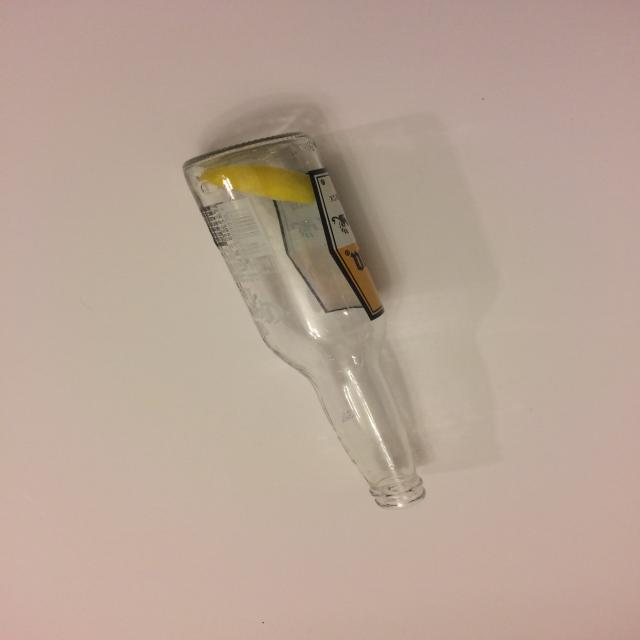glass: (182, 130, 428, 509)
